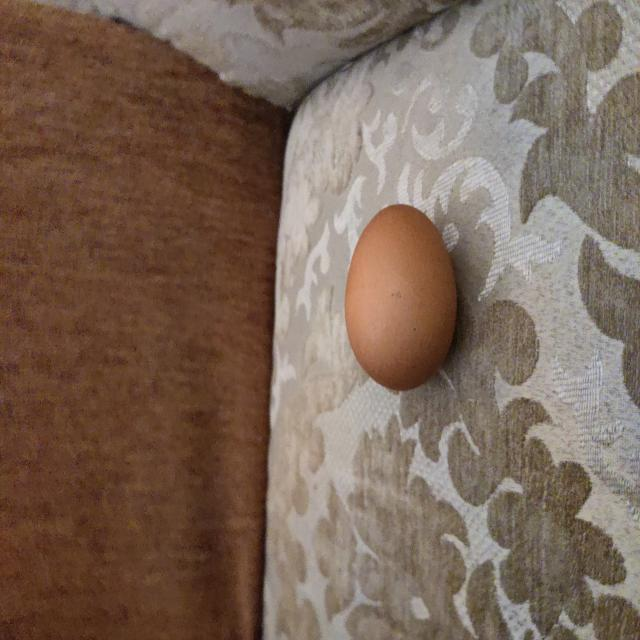egg: (336, 205, 464, 397)
